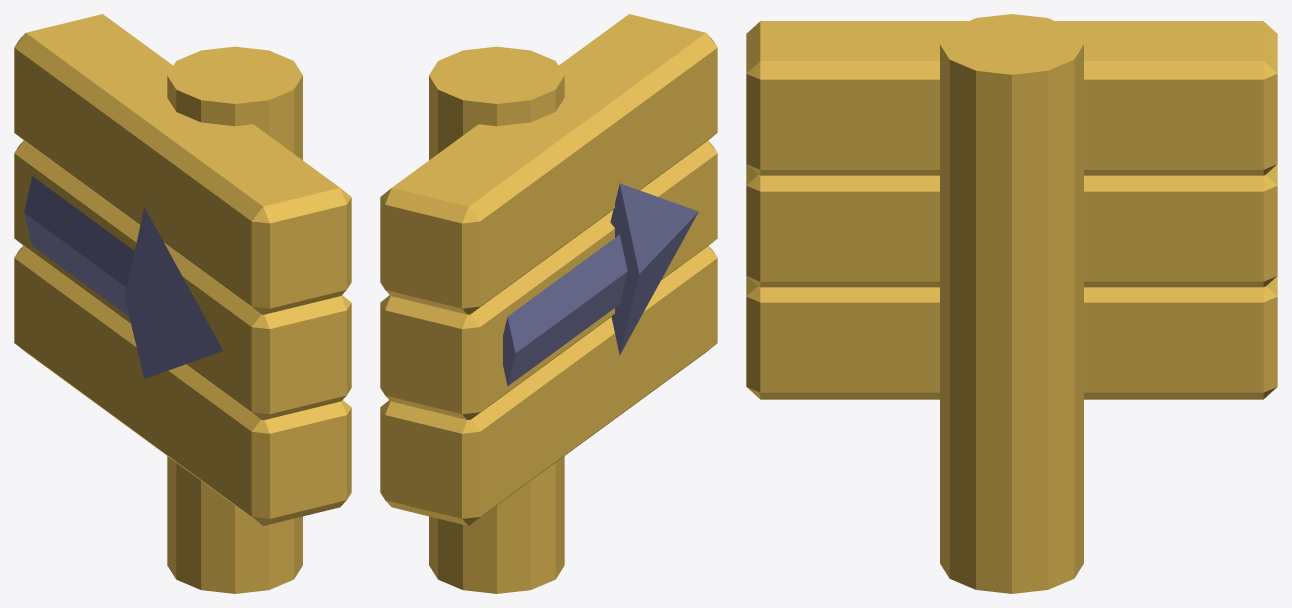
The model's file is Sign.fbx.
3 views of the same model, side by side, from view 1: azimuth 30°, elevation 25°; view 2: azimuth 150°, elevation 25°; view 3: azimuth 270°, elevation 25° (orthographic). The views are drawn at different scales.
Visible parts, largest first — view 1: Sign; view 2: Sign; view 3: Sign.
Boxes of the visible parts, x1,y1,x2,y2 form: Sign: (14, 14, 351, 593); Sign: (380, 14, 717, 593); Sign: (746, 14, 1277, 593).
Bounding box in the file's own units: 62.99 × 159 × 148.
